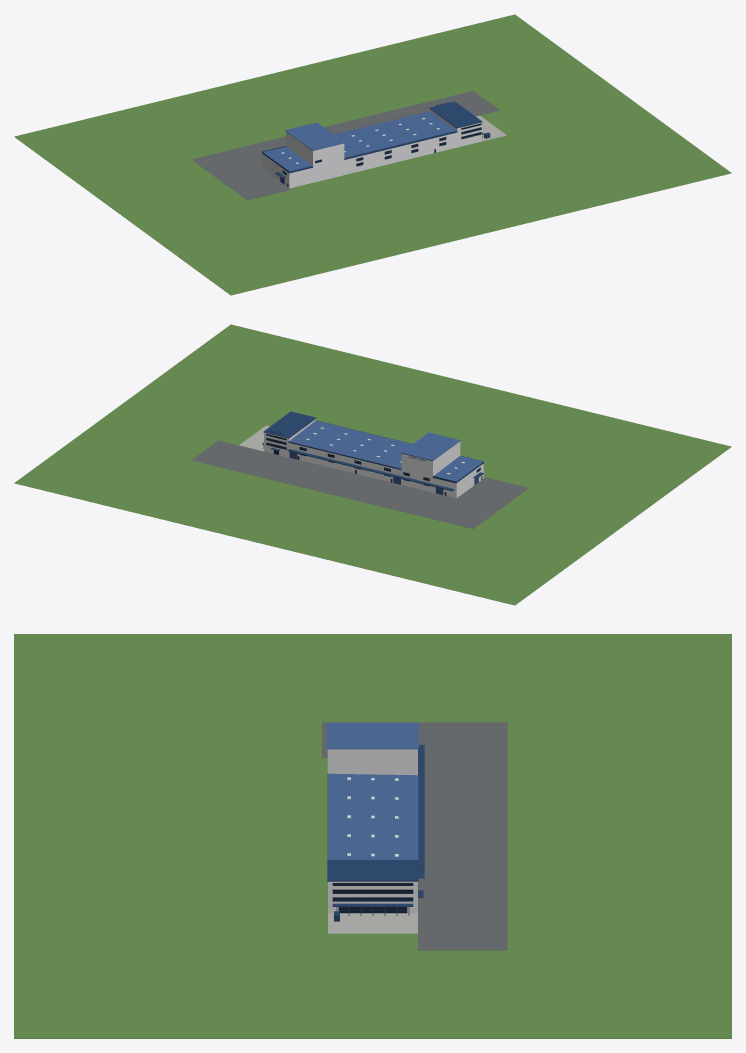
File: warehouse.glb
3 renders of one model, top to bottom at view 1: azimuth 30°, elevation 25°; view 2: azimuth 150°, elevation 25°; view 3: azimuth 270°, elevation 25°, orthographic. The views are drawn at different scales.
Parts seen in each view (by area): view 1: Grass, Apron_Front, RoofHall, Apron_East, wall (×2), Tower_Cap, Office_Cap, RoofPack; view 2: Grass, Apron_Front, RoofHall, Apron_East, Tower_Cap, Office_Cap, RoofPack, Tower_S, Canopy_S; view 3: Grass, Apron_Front, RoofHall, Tower_Cap, Office_Cap, wall (×2), Walk_West, Canopy_S.
Boxes of the visible parts, x1,y1,x2,y2 form: Grass: (14,14,731,295); Apron_Front: (191,91,499,177); RoofHall: (334,111,457,158); Apron_East: (217,167,290,200); wall (×2): (289,143,356,188); Tower_Cap: (285,122,344,150); Office_Cap: (429,101,482,128); RoofPack: (263,146,312,171); Grass: (14,324,731,605); Apron_Front: (192,440,499,528); RoofHall: (289,420,412,468); Apron_East: (455,477,528,508); Tower_Cap: (401,432,460,460); Office_Cap: (263,411,316,438); RoofPack: (434,455,483,481); Tower_S: (401,454,433,476); Canopy_S: (288,449,454,490); Grass: (14,634,731,1038); Apron_Front: (418,722,507,950); RoofHall: (328,773,418,859); Tower_Cap: (327,722,418,749); Office_Cap: (327,860,418,881); wall (×2): (328,749,417,775); Walk_West: (328,913,417,933); Canopy_S: (418,744,424,878).
Bounding box in the file's own units: 320 × 19.99 × 240.
13 materials, 2 textured.
